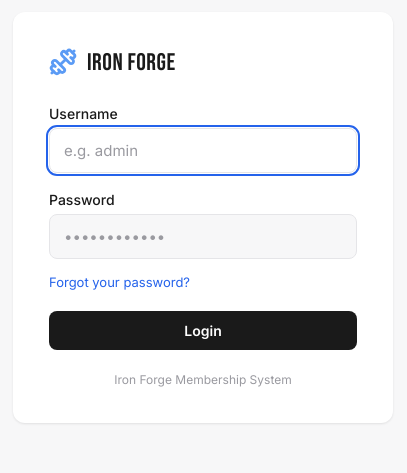
Test case: LoginPage › shows a real 401 as "Invalid username or password"
Type "admin" into the field labelled "Username".
click(203, 150); type("admin")  # box [49,128,357,172]
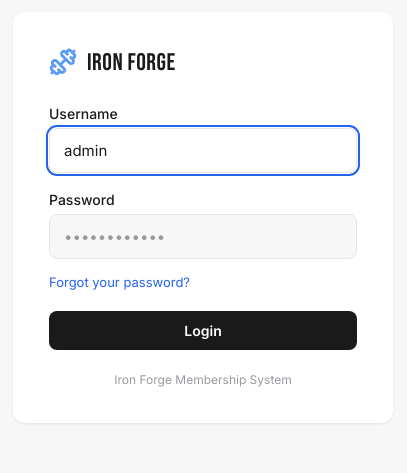
Type "wrong-password" into the password field labelled "Password".
click(203, 236); type("wrong-password")  # box [49,214,357,258]
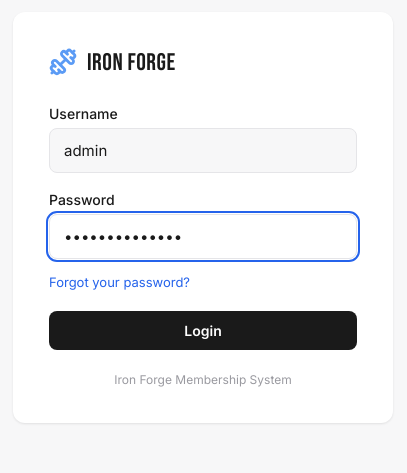
Click the button "Login".
click(203, 330)  # box [49,310,357,350]
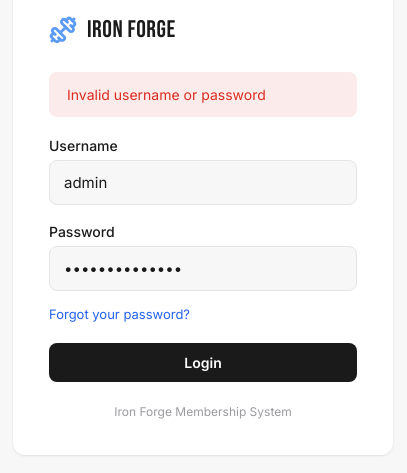
Now the text "Invalid username or password" is shown, box [49,72,357,117]
